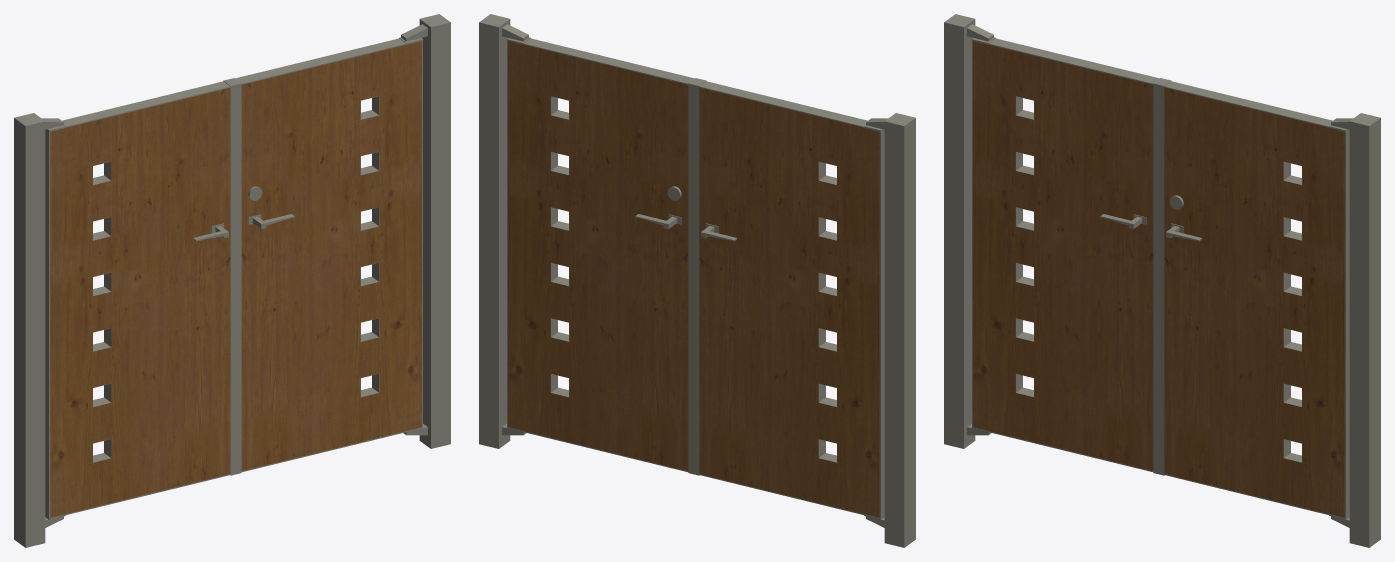
File: abmonpi-komado_h1400-w1400_naturalpine.fbx
3 renders of one model, left to right at view 1: azimuth 30°, elevation 25°; view 2: azimuth 150°, elevation 25°; view 3: azimuth 330°, elevation 25°, orthographic.
Visible parts, largest first — view 1: abmonpi-komado_h1400-w1400_rustycopper.003; view 2: abmonpi-komado_h1400-w1400_rustycopper.003; view 3: abmonpi-komado_h1400-w1400_rustycopper.003.
Part boxes in pixels (x1=…): abmonpi-komado_h1400-w1400_rustycopper.003: x1=14, y1=14, x2=450, y2=547; abmonpi-komado_h1400-w1400_rustycopper.003: x1=479, y1=14, x2=915, y2=547; abmonpi-komado_h1400-w1400_rustycopper.003: x1=944, y1=14, x2=1380, y2=547.
Bounding box in the file's own units: 160 × 152 × 16.7.
2 materials, 2 textured.
